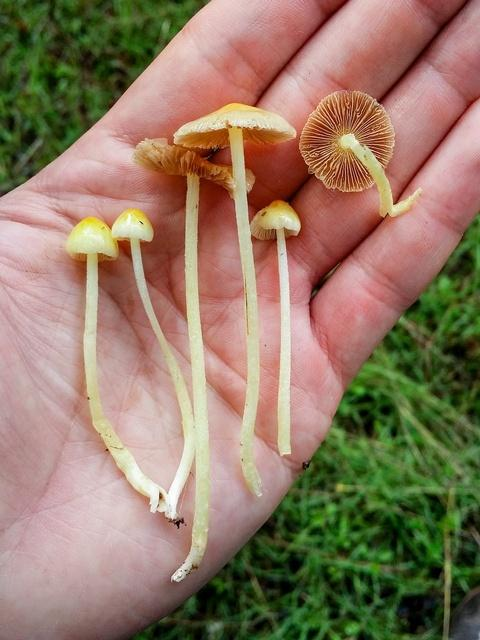Edible Mushroom: (129, 94, 304, 329), (64, 203, 173, 372), (296, 85, 394, 203)
